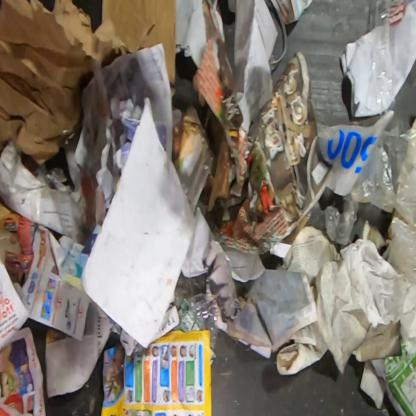cardboard: (101, 0, 176, 85)
rigid_plastic: (186, 292, 223, 352)
soft_plastic: (324, 116, 415, 247), (317, 108, 396, 197), (368, 0, 392, 104)
